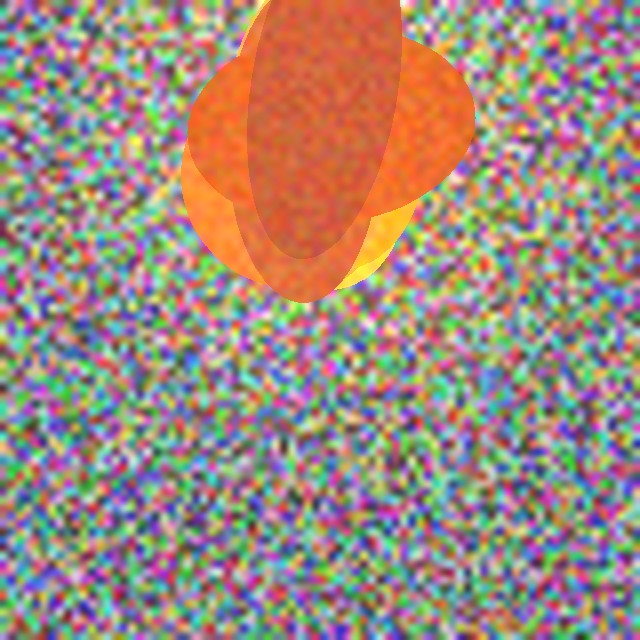fire: (187, 53, 461, 295)
